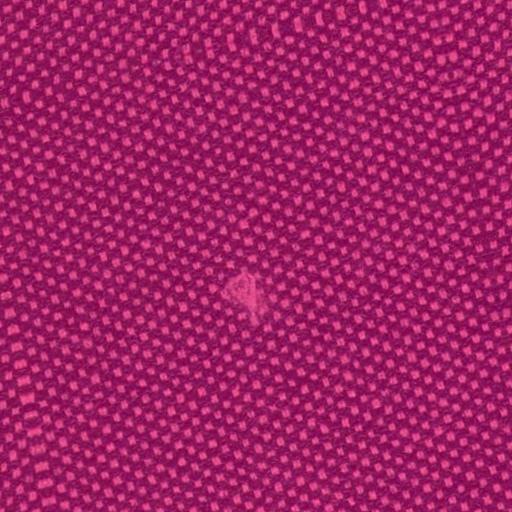knot: (214, 263, 273, 332)
